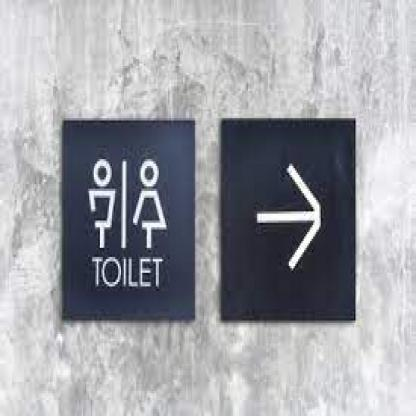toilet: (88, 157, 167, 255)
